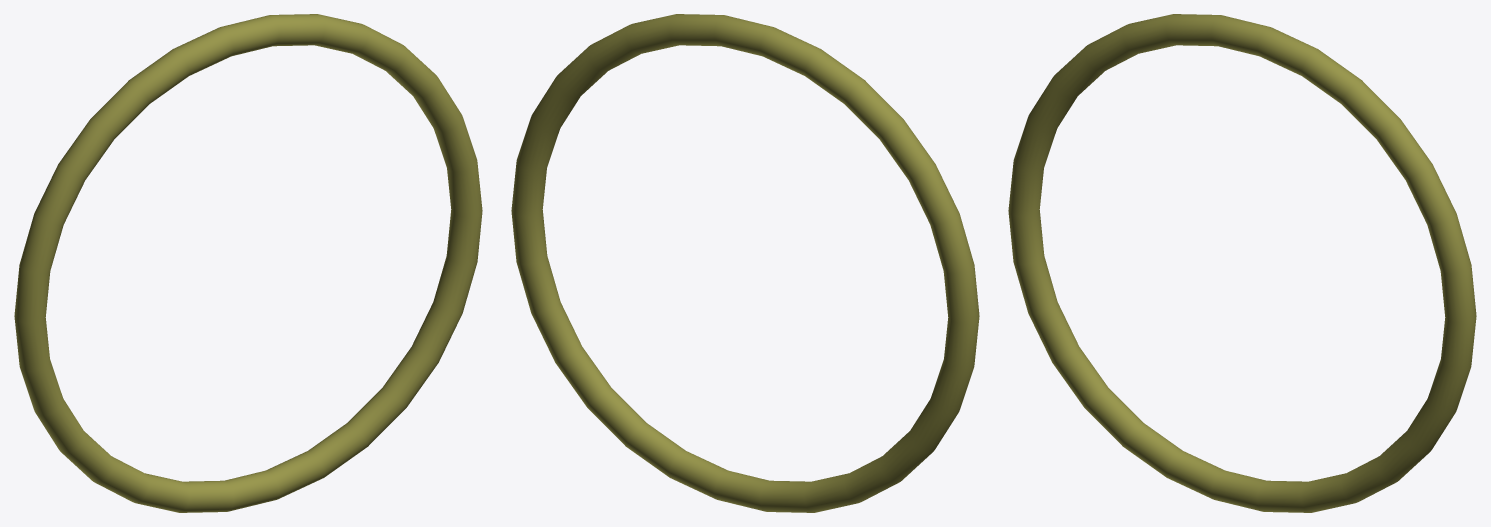
Rendered from DreamCatcher.fbx.
3 renders of one model, left to right at view 1: azimuth 30°, elevation 25°; view 2: azimuth 150°, elevation 25°; view 3: azimuth 330°, elevation 25°, orthographic.
Visible parts, largest first — view 1: DreamCatcher; view 2: DreamCatcher; view 3: DreamCatcher.
Part boxes in pixels (box(x1,y1,x2,y2)): DreamCatcher: box(14, 14, 482, 512); DreamCatcher: box(511, 14, 979, 512); DreamCatcher: box(1008, 14, 1476, 512).
Size of the model in its own units: 85 by 84.53 by 5.
